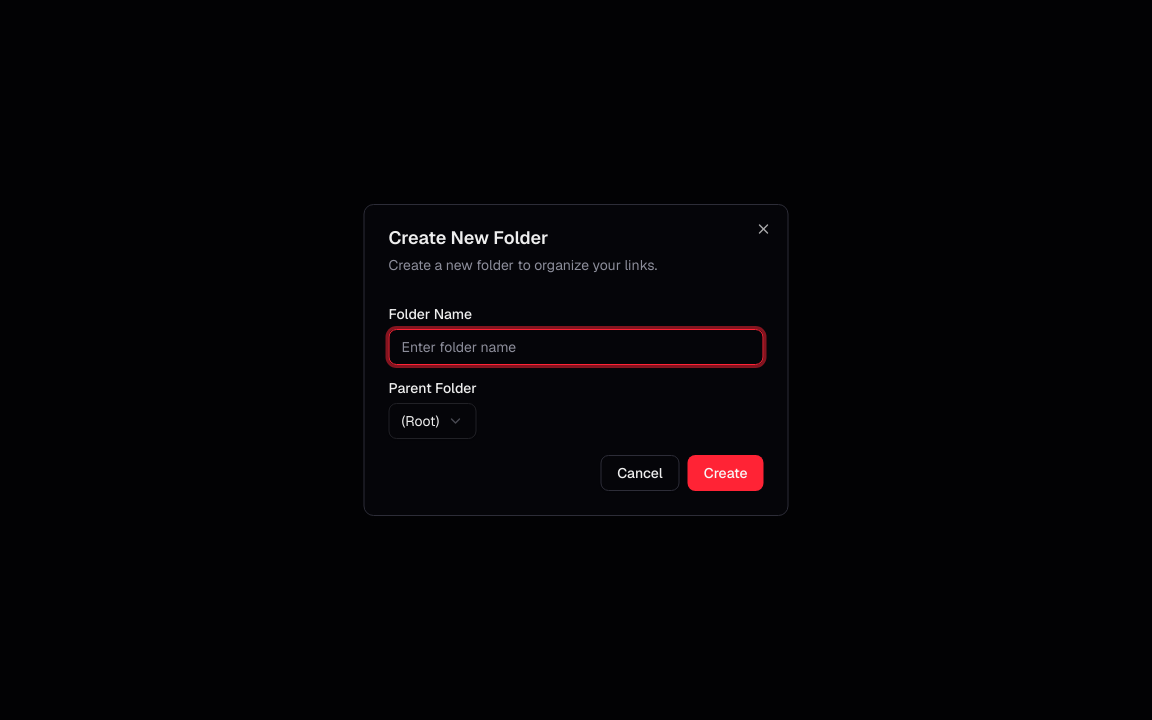
Test: CreateFolderDialog › should display error message on create failure
Type "New Folder" into the field with test id "folder-name-input" at {"x": 576, "y": 347}, box [388, 329, 764, 365]
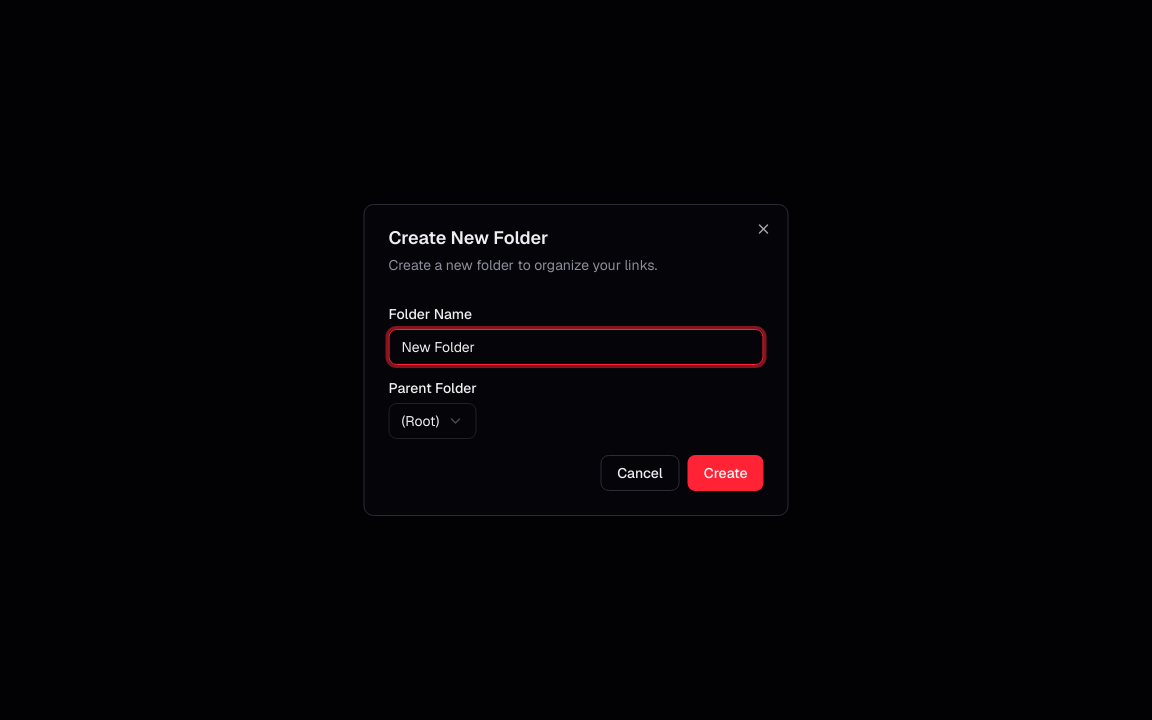
Click the button with test id "create-button" at {"x": 726, "y": 473}, box [688, 455, 764, 491]
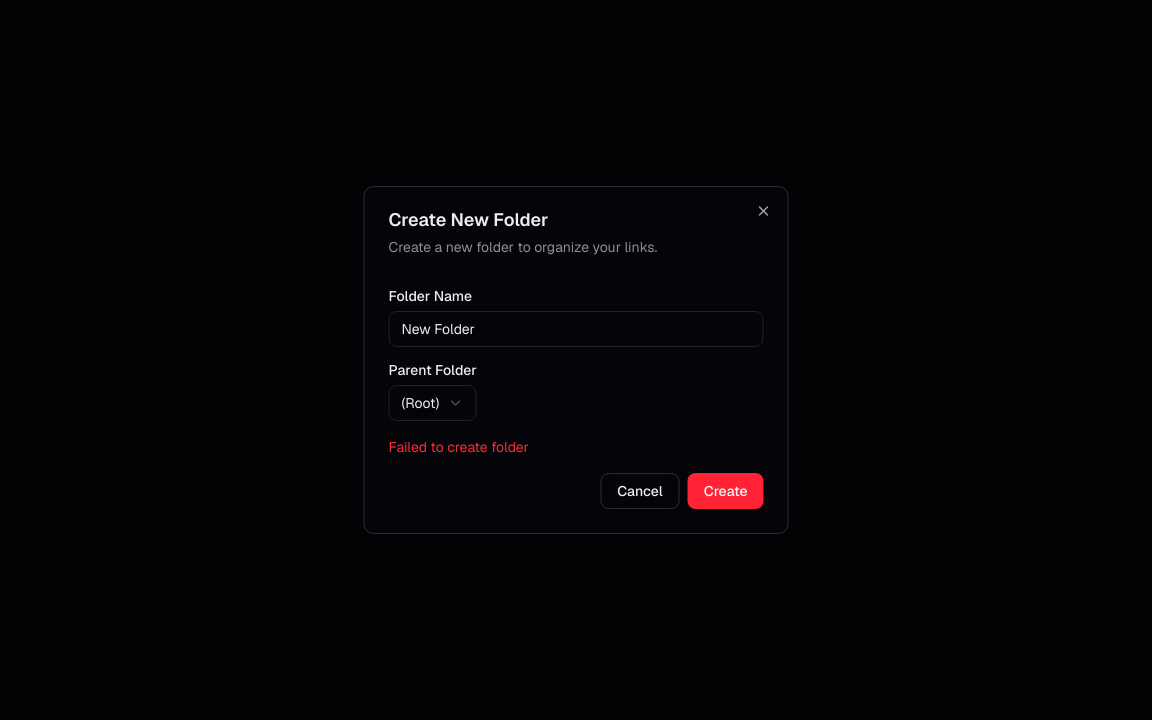
Check: the text with test id "error-message" reads "Failed to create folder", box [388, 438, 529, 456]
